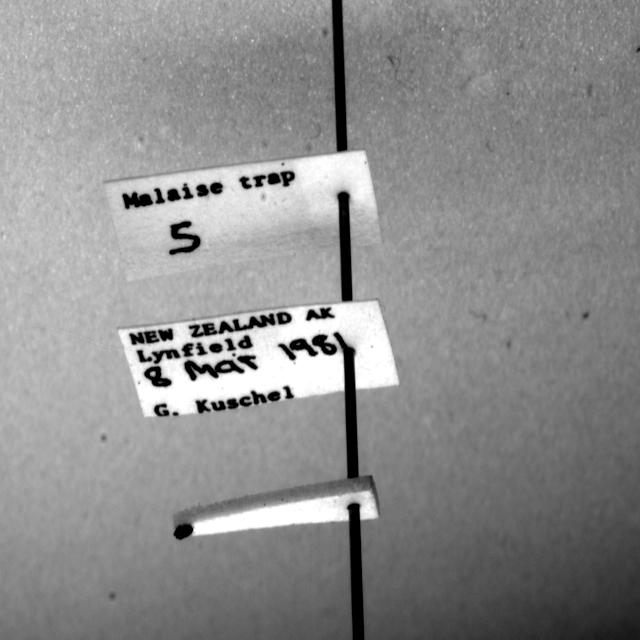hand_label: (105, 150, 381, 281), (119, 300, 399, 416)
